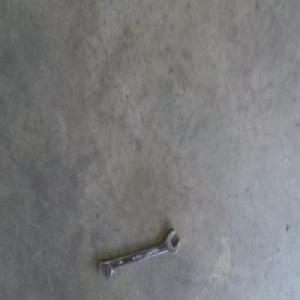Wrench: (99, 226, 179, 279)
